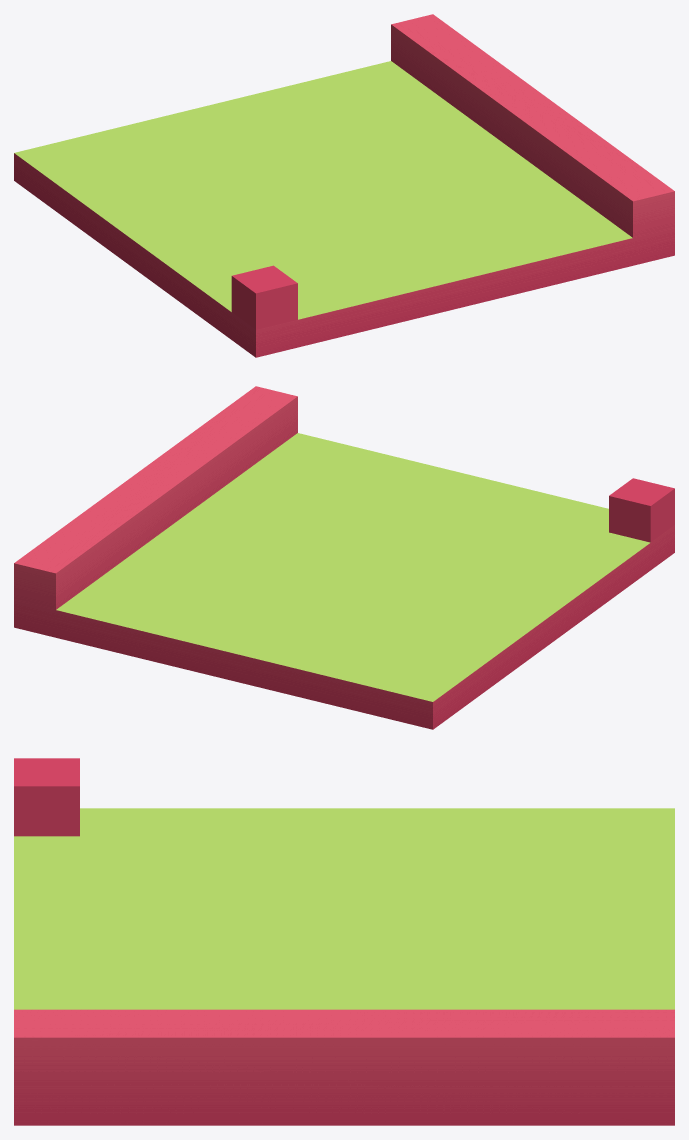
The model's file is walls-to-side-r.glb.
The picture shows the model from 3 angles, top to bottom: view 1: azimuth 30°, elevation 25°; view 2: azimuth 150°, elevation 25°; view 3: azimuth 270°, elevation 25°; orthographic projection. The views are drawn at different scales.
Visible parts, largest first — view 1: side; view 2: side; view 3: side.
Part boxes in pixels (x1,y1,x2,y2): side: (14, 14, 674, 357); side: (14, 386, 674, 729); side: (14, 758, 674, 1125).
Size of the model in its own units: 0.9999 by 0.1467 by 0.9999.
1 material, 1 textured.
